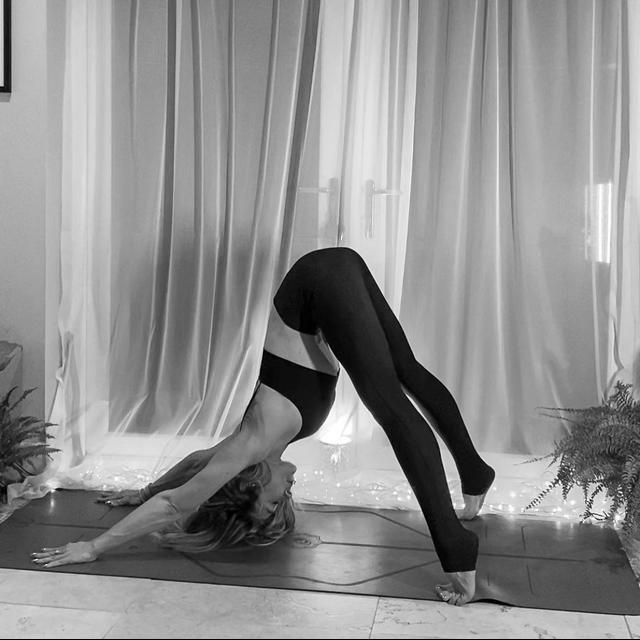Downward-Facing_Dog: (30, 244, 498, 609)
